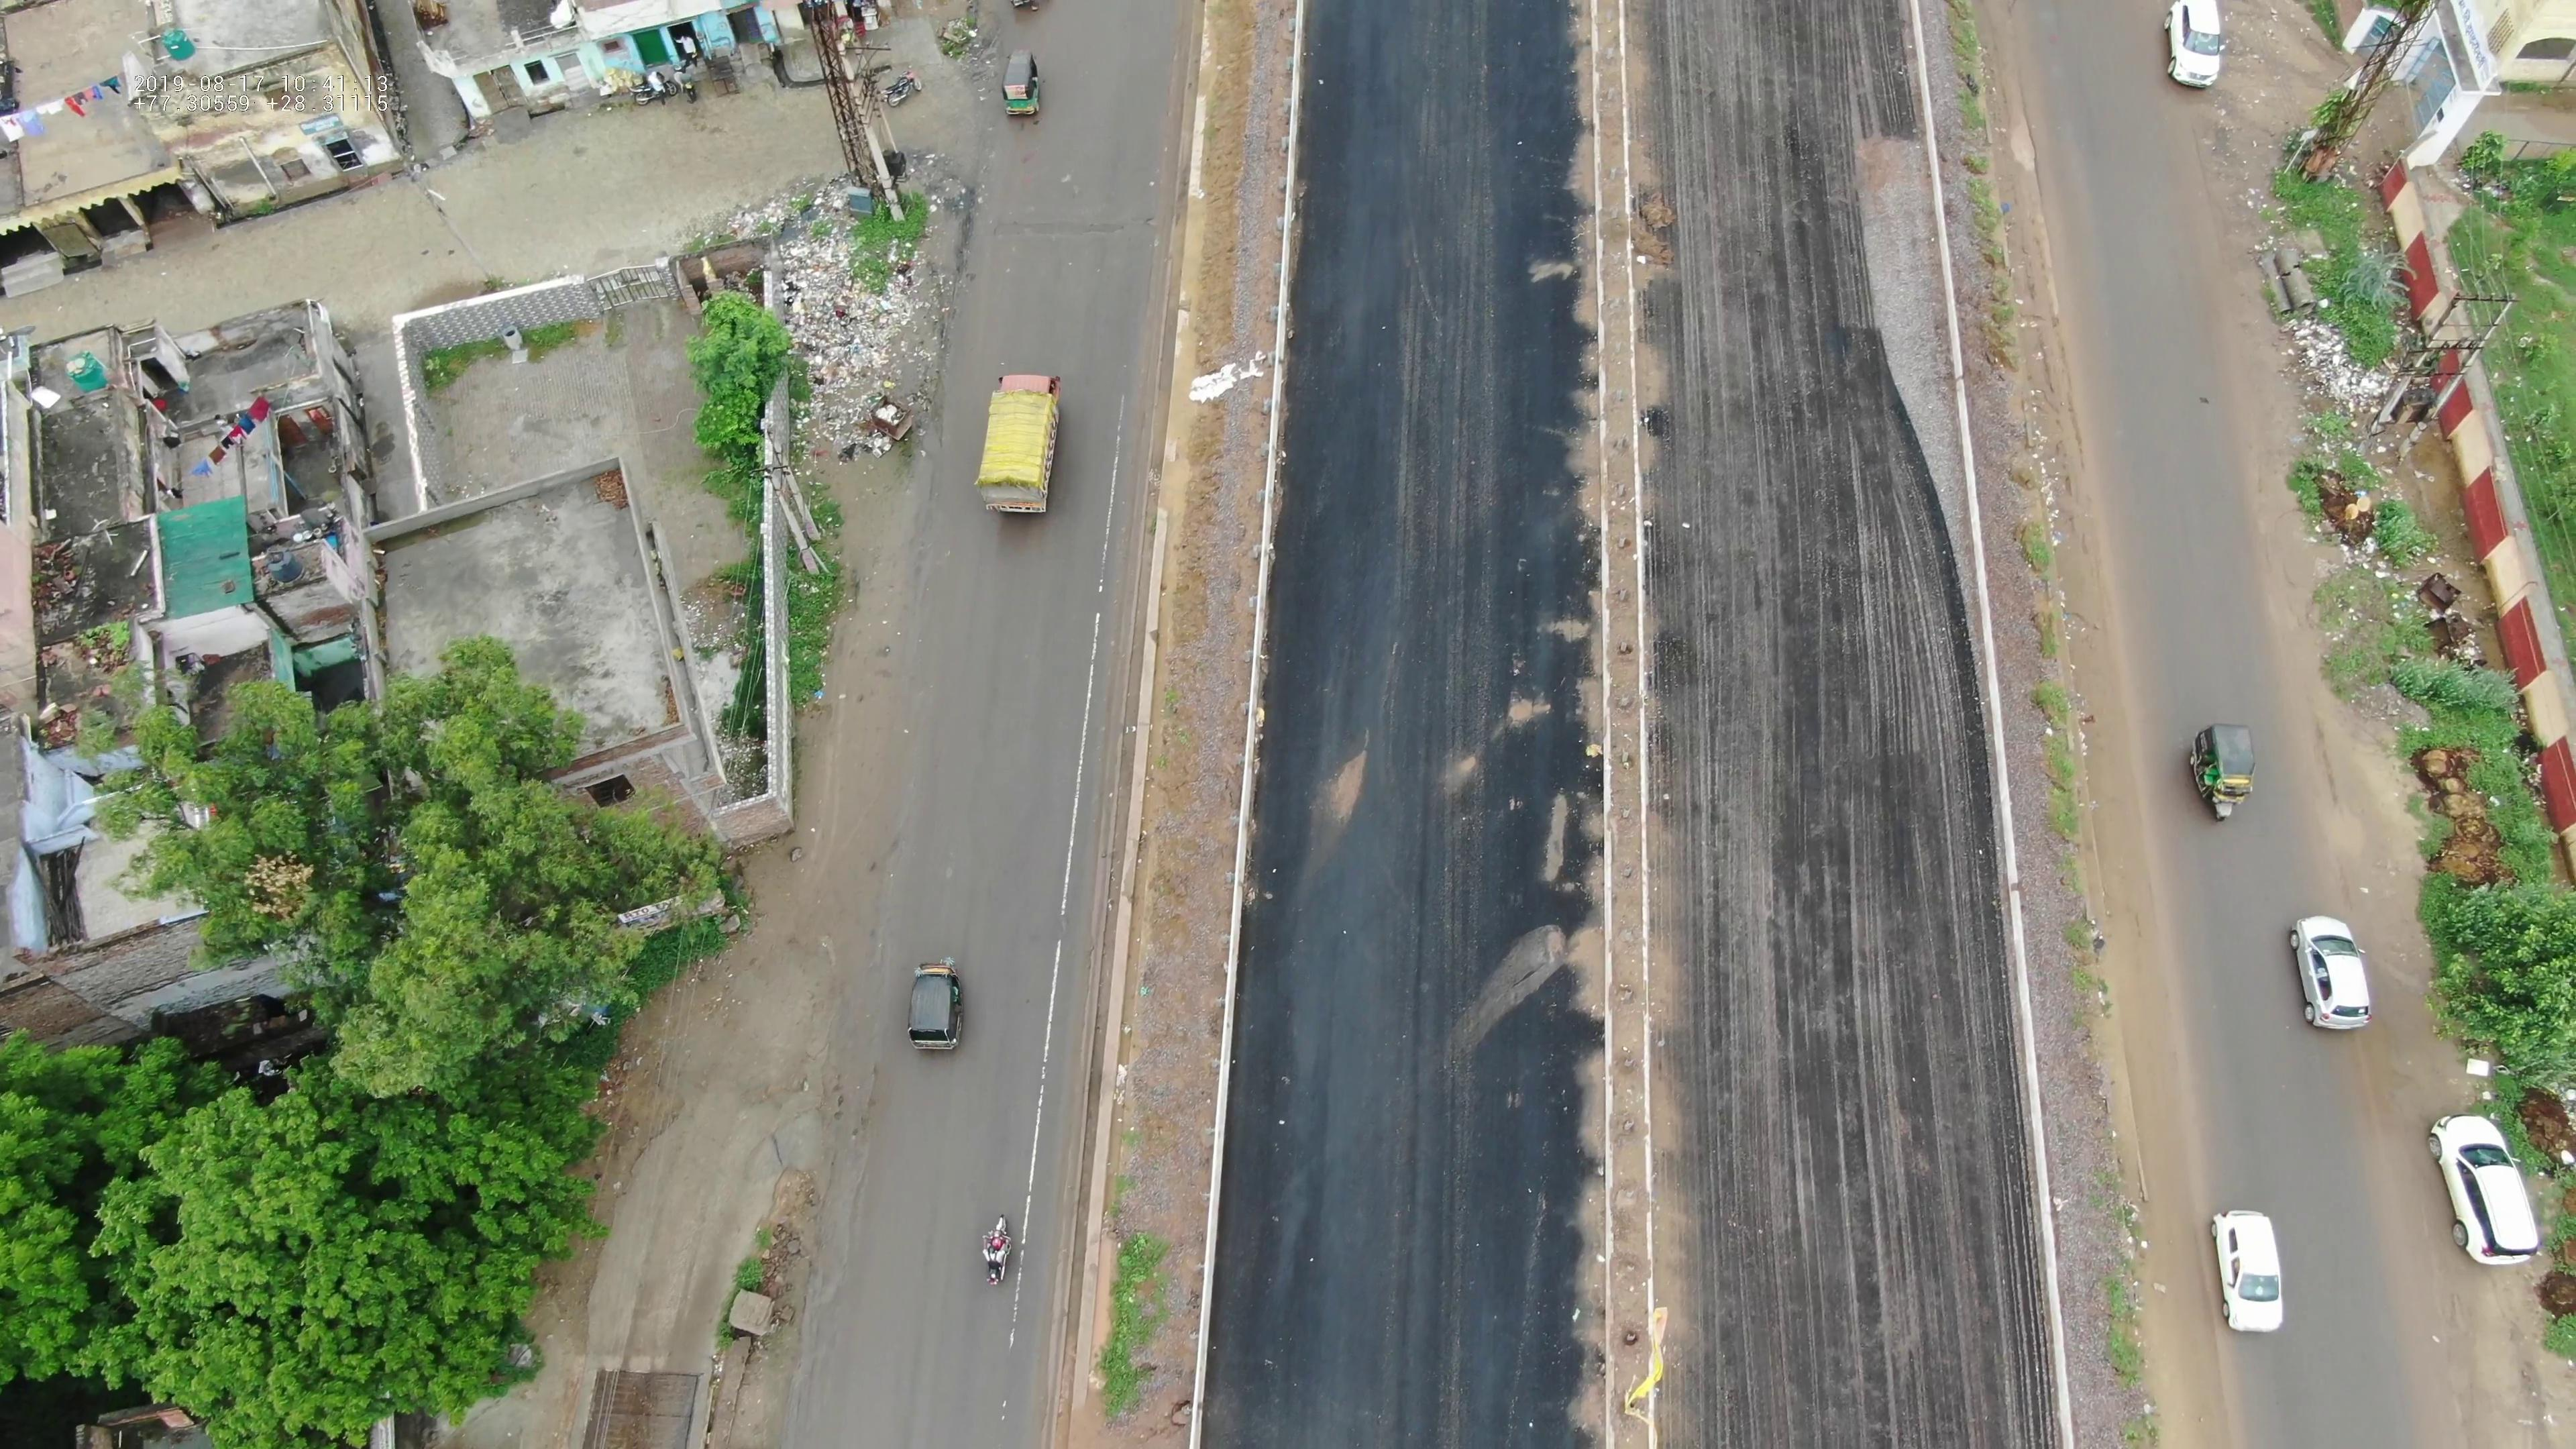Muddy_road: (2063, 715, 2180, 1125)
